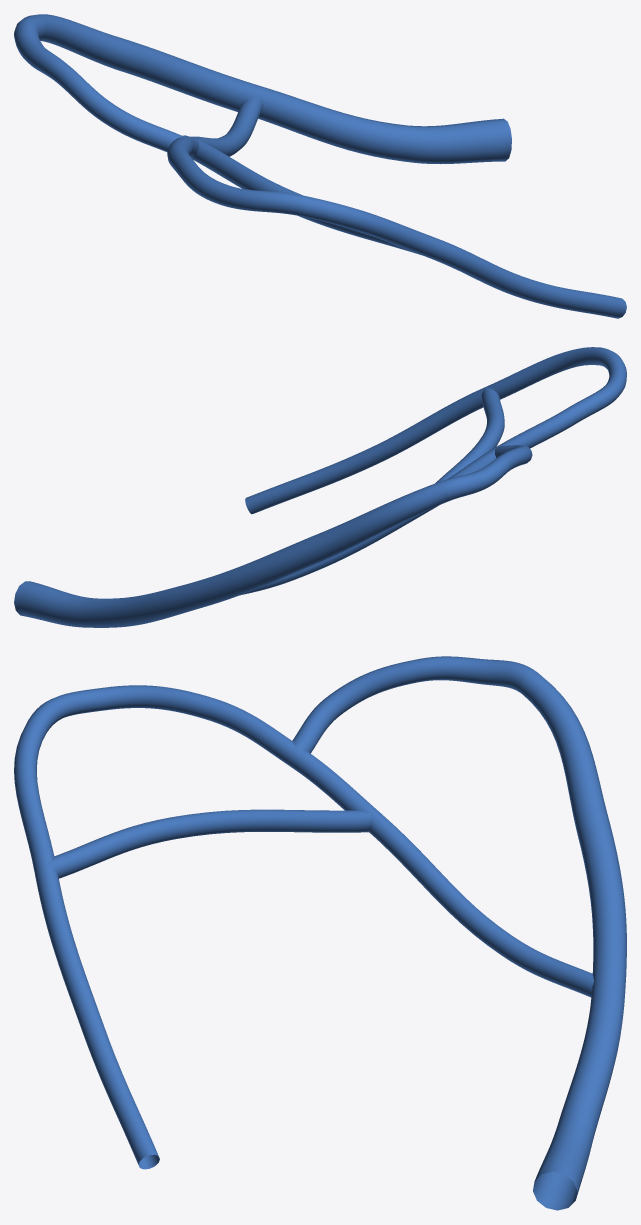
3 renders of one model, top to bottom at view 1: azimuth 30°, elevation 25°; view 2: azimuth 150°, elevation 25°; view 3: azimuth 270°, elevation 25°, orthographic. The views are drawn at different scales.
Parts seen in each view (by area): view 1: 中结肠静脉; view 2: 中结肠静脉; view 3: 中结肠静脉.
Boxes of the visible parts, x1,y1,x2,y2 form: 中结肠静脉: (14, 14, 626, 318); 中结肠静脉: (14, 347, 626, 627); 中结肠静脉: (14, 656, 626, 1210).
Bounding box in the file's own units: 0.0834 × 0.0411 × 0.0791.
